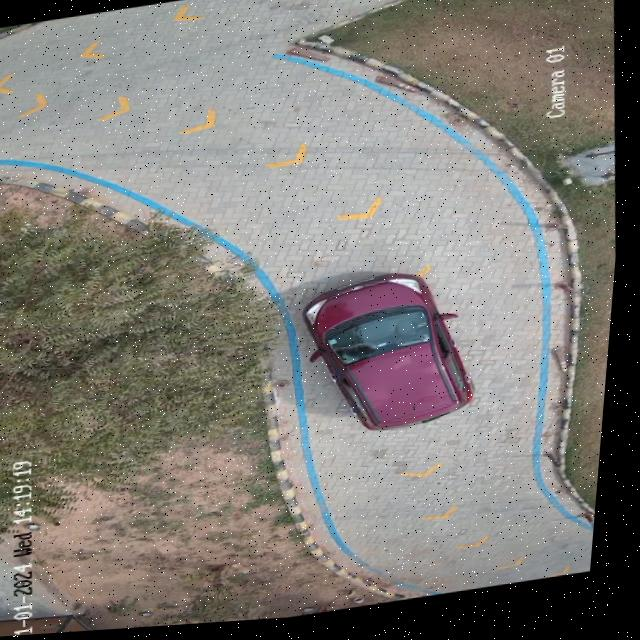car: (309, 278, 480, 432)
